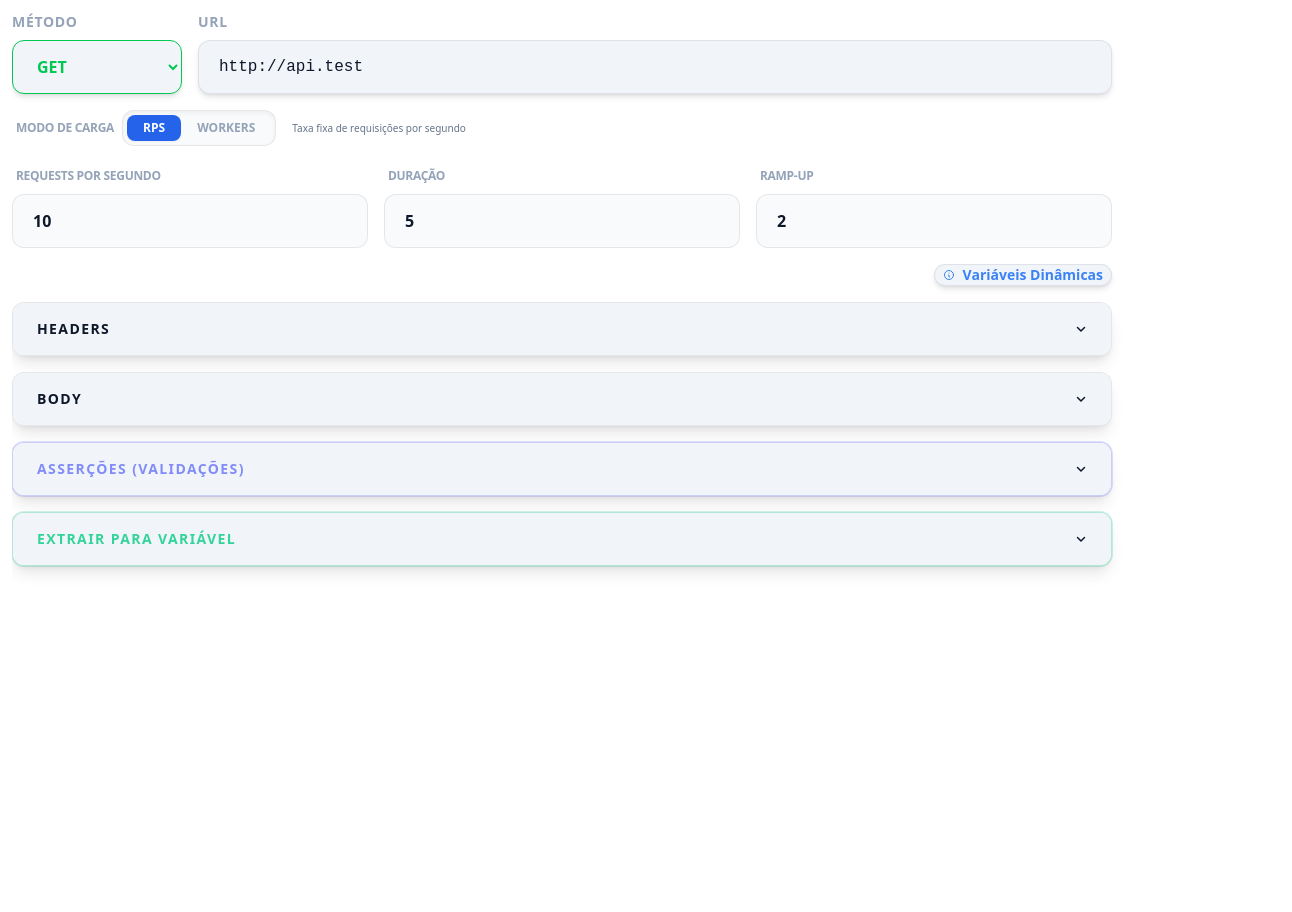
Test case: ConfigView › should manage Extractions section in workflow mode
Click the button "Extrair para Variável" at (137, 538), box x1=13 y1=513 x2=1111 y2=565
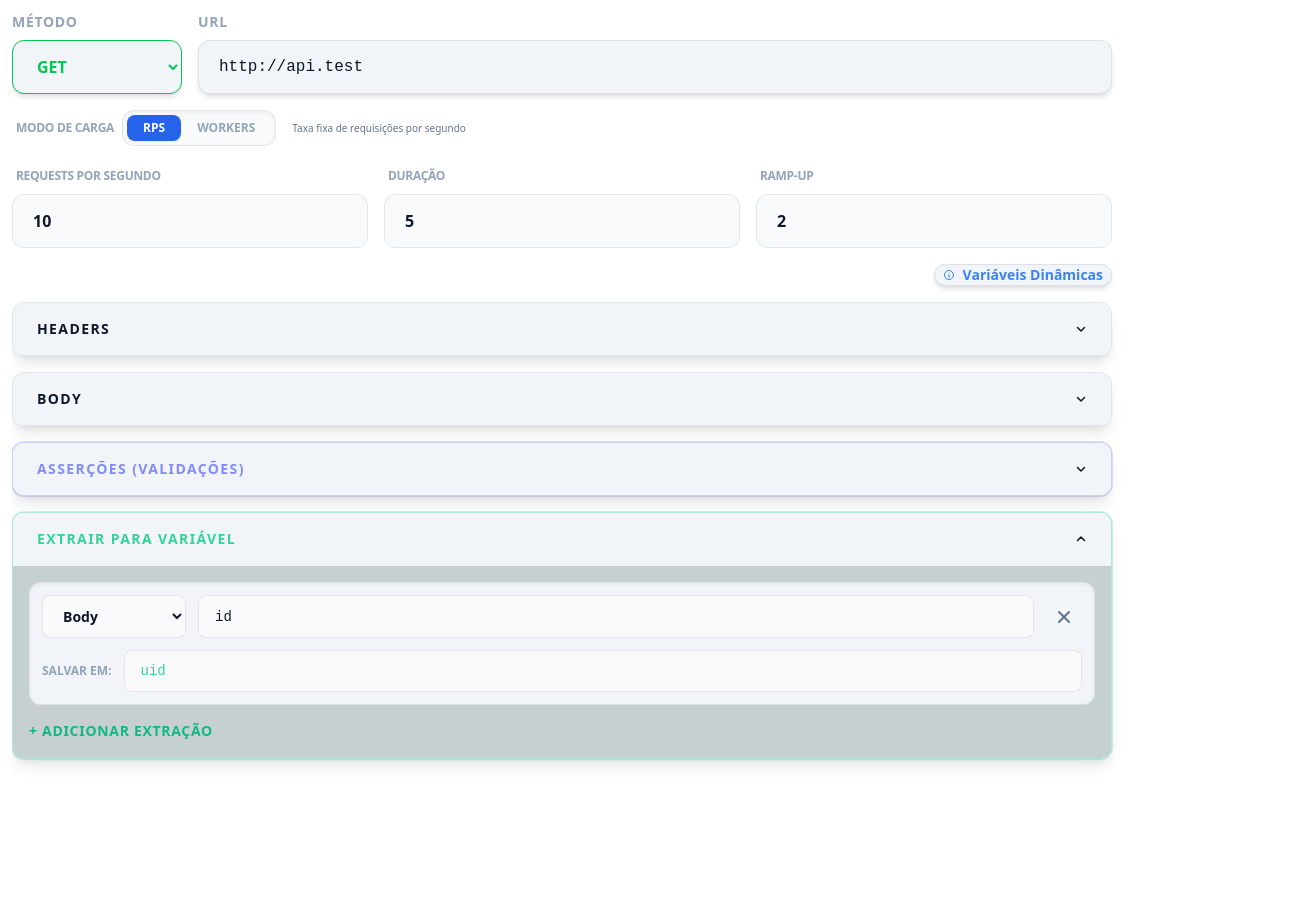
Check: the field showing "uid" next to "Salvar em:" is shown, box x1=124 y1=650 x2=1082 y2=692
